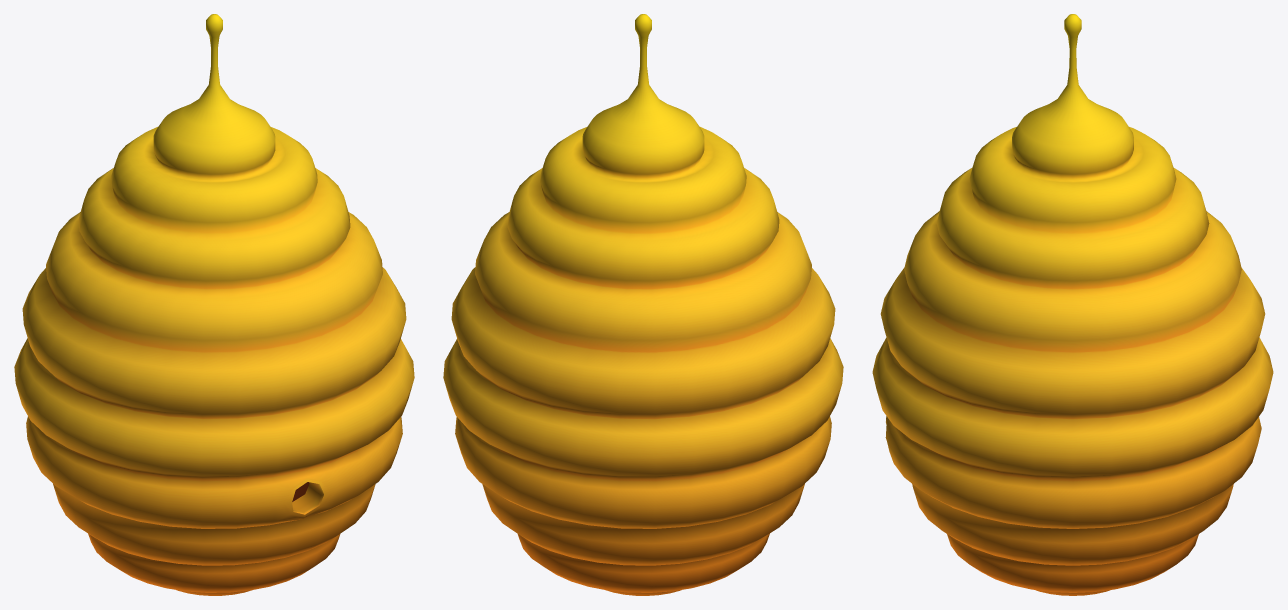
3 renders of one model, left to right at view 1: azimuth 30°, elevation 25°; view 2: azimuth 150°, elevation 25°; view 3: azimuth 270°, elevation 25°, orthographic.
Parts seen in each view (by area): view 1: Hive; view 2: Hive; view 3: Hive.
Boxes of the visible parts, left/top/right/bottom form: Hive: left=14, top=14, right=414, bottom=595; Hive: left=443, top=14, right=843, bottom=595; Hive: left=872, top=14, right=1273, bottom=595.
Bounding box in the file's own units: 60.14 × 93.82 × 60.14.
1 material, 1 textured.
